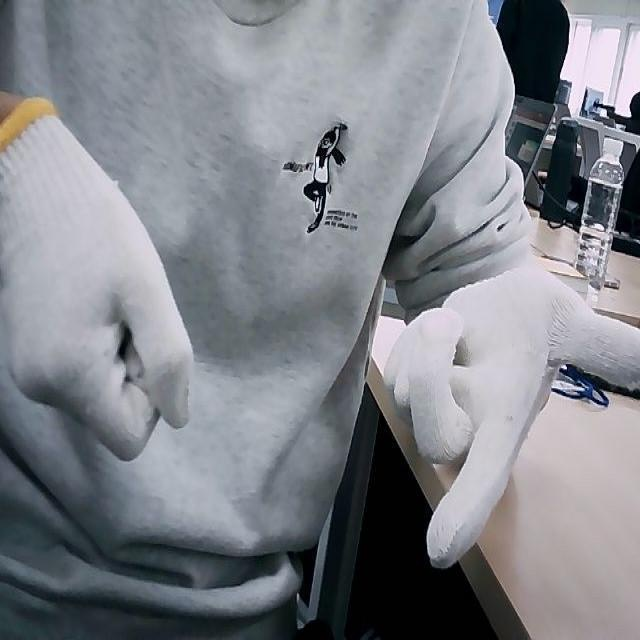Guantes: (388, 266, 640, 569), (0, 94, 194, 459)
